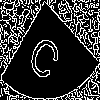C: (25, 24, 67, 85)
